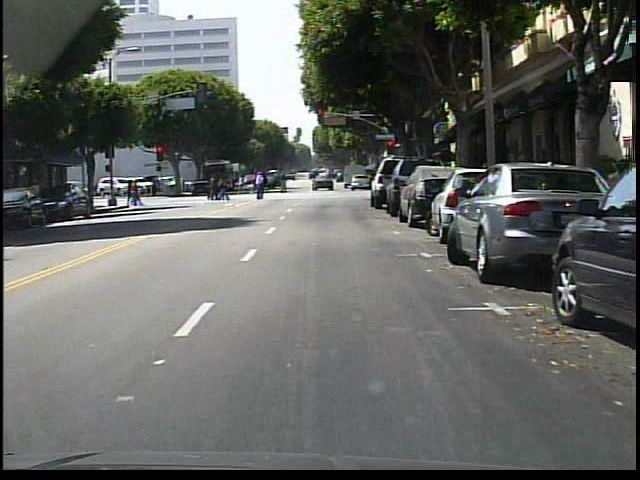person: (248, 169, 270, 202), (274, 169, 290, 199)
